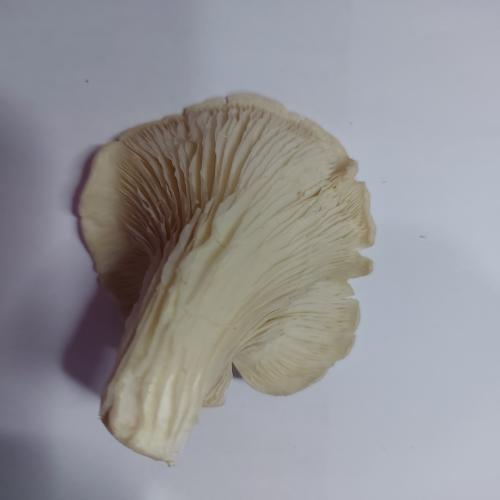Oyster Mushroom: (74, 91, 377, 467)
